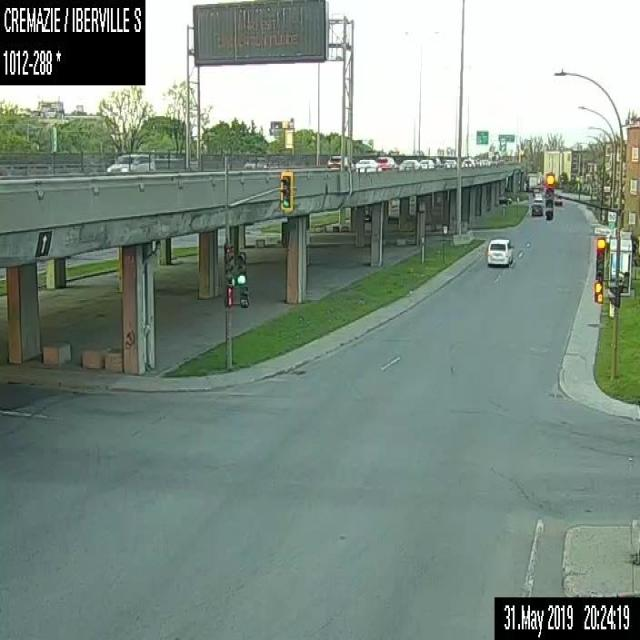vehicle: (104, 151, 154, 172), (486, 236, 514, 267), (326, 154, 356, 169), (354, 158, 382, 171), (243, 154, 266, 168), (377, 155, 398, 169), (398, 158, 421, 170), (525, 172, 538, 191), (530, 200, 543, 216), (419, 158, 435, 169), (552, 196, 564, 208), (427, 155, 440, 166), (461, 158, 474, 168), (498, 194, 512, 203), (442, 158, 456, 166), (478, 158, 489, 167), (533, 193, 542, 203), (531, 186, 539, 194), (472, 157, 479, 166)
